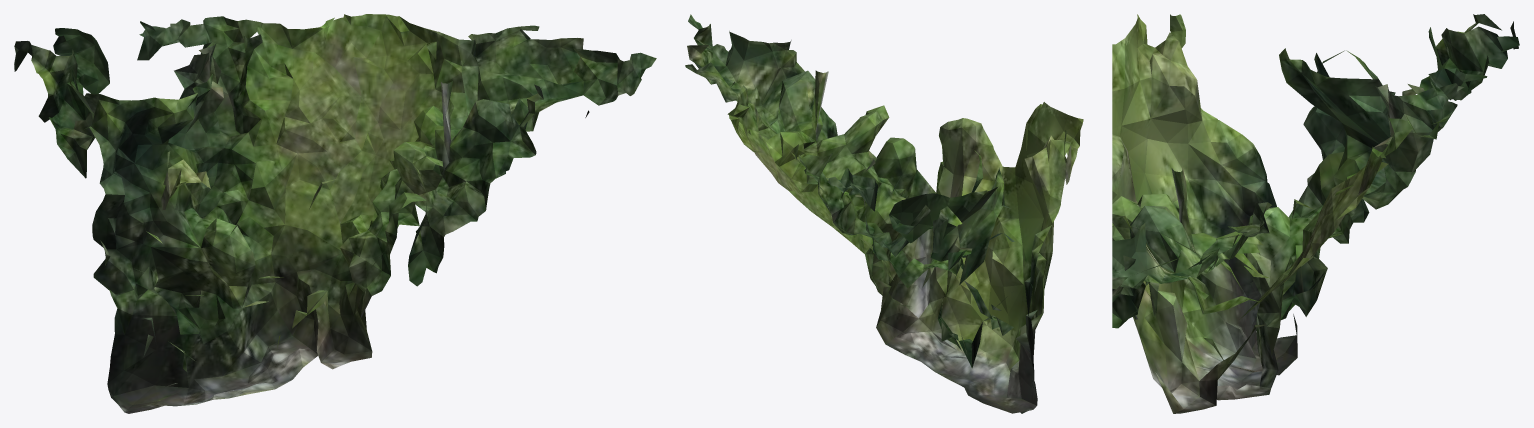
3 views of the same model, side by side, from view 1: azimuth 30°, elevation 25°; view 2: azimuth 150°, elevation 25°; view 3: azimuth 270°, elevation 25° (orthographic). The views are drawn at different scales.
Size of the model in its own units: 51.36 by 31.15 by 34.9.
3 materials, 3 textured.
